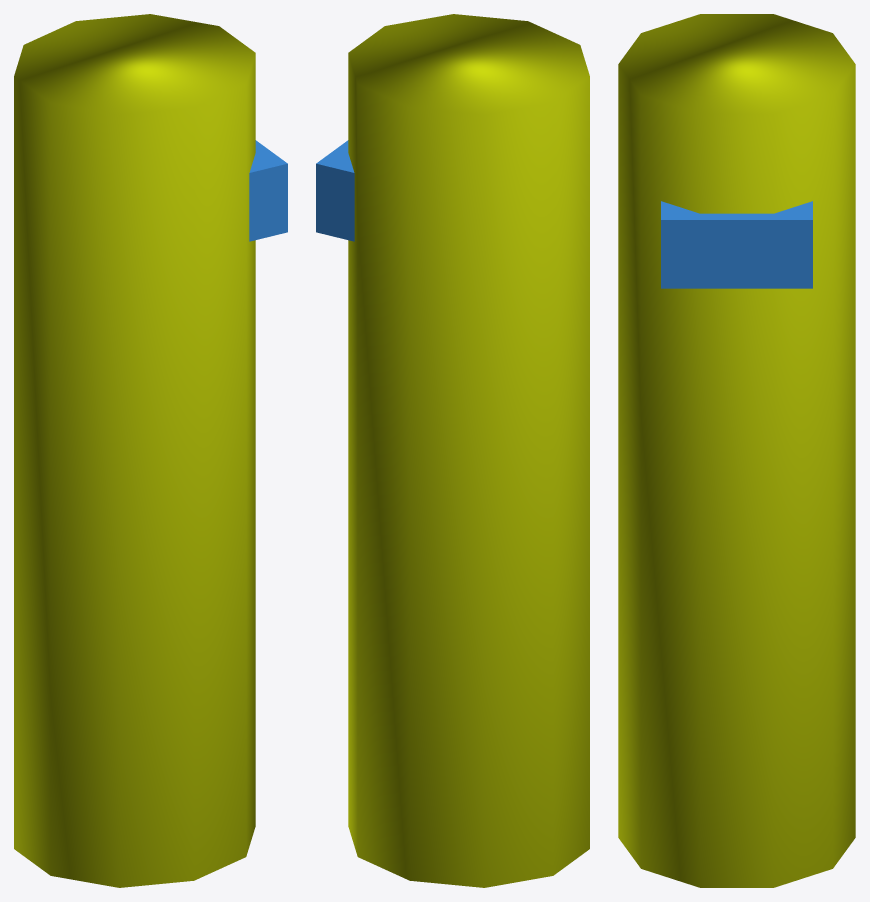
File: allly.glb
3 views of the same model, side by side, from view 1: azimuth 30°, elevation 25°; view 2: azimuth 150°, elevation 25°; view 3: azimuth 270°, elevation 25° (orthographic).
Visible parts, largest first — view 1: Cylinder, Cube; view 2: Cylinder, Cube; view 3: Cylinder, Cube.
Boxes of the visible parts, left/top/right/bottom form: Cylinder: left=14, top=14, right=255, bottom=887; Cube: left=249, top=140, right=287, bottom=241; Cylinder: left=348, top=14, right=589, bottom=887; Cube: left=316, top=140, right=354, bottom=241; Cylinder: left=618, top=14, right=855, bottom=887; Cube: left=661, top=201, right=812, bottom=288.
Size of the model in its own units: 0.5305 by 1.8 by 0.5.
